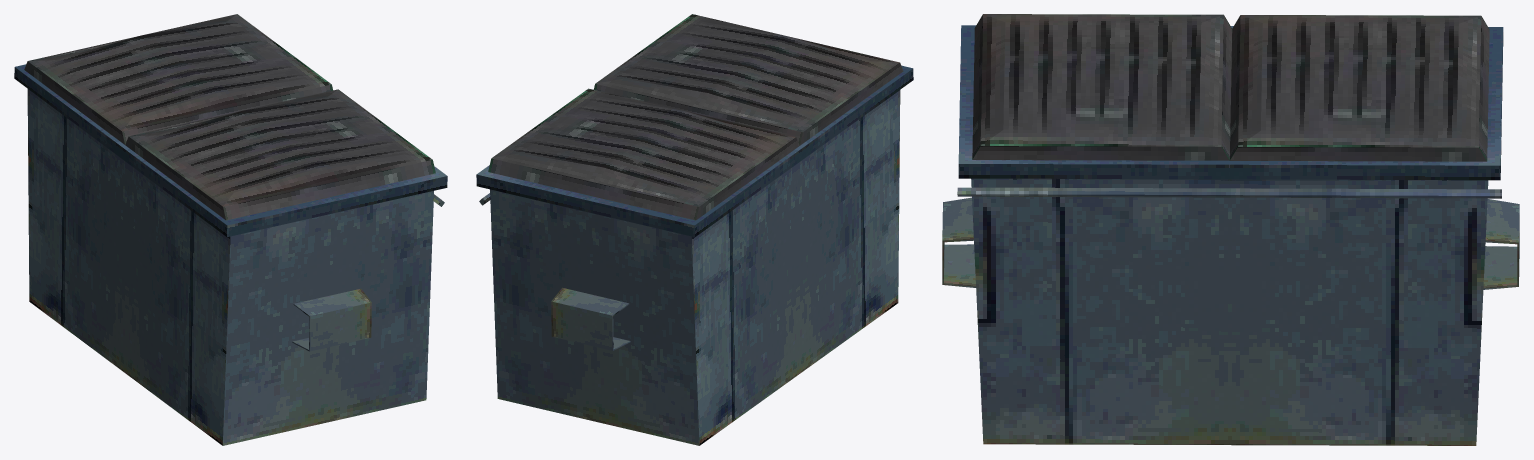
Rendered from dumpster_lid_closed_blue.glb.
3 views of the same model, side by side, from view 1: azimuth 30°, elevation 25°; view 2: azimuth 150°, elevation 25°; view 3: azimuth 270°, elevation 25° (orthographic). The views are drawn at different scales.
Visible parts, largest first — view 1: dumpster_lid_closed_blue; view 2: dumpster_lid_closed_blue; view 3: dumpster_lid_closed_blue.
Boxes of the visible parts, <box> form: dumpster_lid_closed_blue: <box>14,14,447,445</box>; dumpster_lid_closed_blue: <box>476,14,913,445</box>; dumpster_lid_closed_blue: <box>942,14,1519,445</box>.
Bounding box in the file's own units: 2.06 × 2.21 × 3.68.
1 material, 1 textured.
